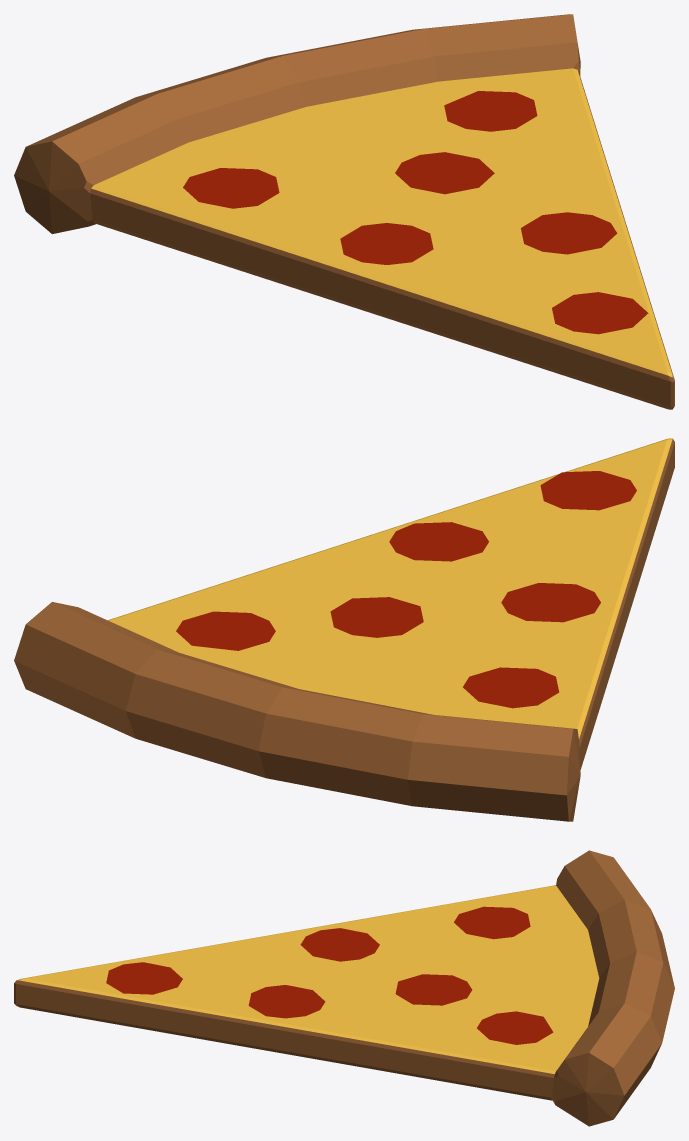
The model's file is Pizza_One_Piece.fbx.
The picture shows the model from 3 angles, top to bottom: view 1: azimuth 30°, elevation 25°; view 2: azimuth 150°, elevation 25°; view 3: azimuth 270°, elevation 25°; orthographic projection. The views are drawn at different scales.
Visible parts, largest first — view 1: Pizza_One_Piece; view 2: Pizza_One_Piece; view 3: Pizza_One_Piece.
Part boxes in pixels (box(x1,y1,x2,y2)): Pizza_One_Piece: box(14, 14, 674, 409); Pizza_One_Piece: box(14, 438, 674, 821); Pizza_One_Piece: box(14, 850, 674, 1126).
Size of the model in its own units: 7.61 by 1.22 by 9.9.
